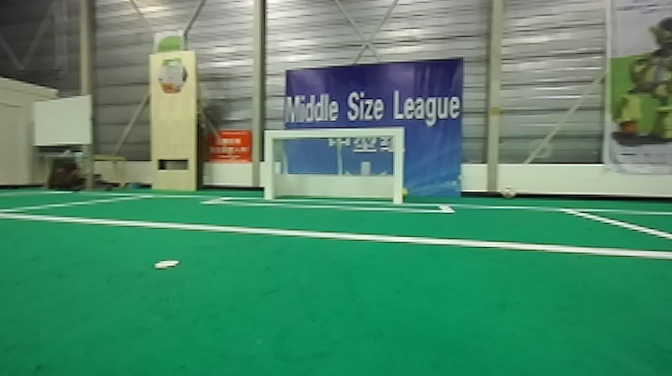ball: (501, 181, 519, 199), (398, 185, 411, 195)
goalpost: (385, 123, 413, 211), (259, 119, 282, 201)
